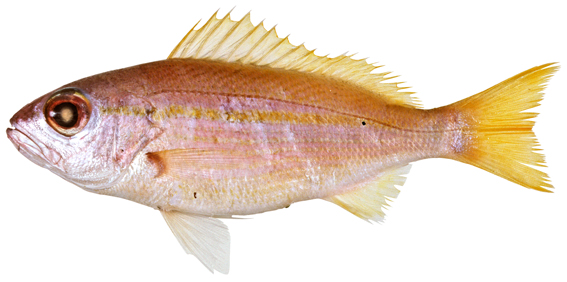fish: (7, 6, 561, 276)
